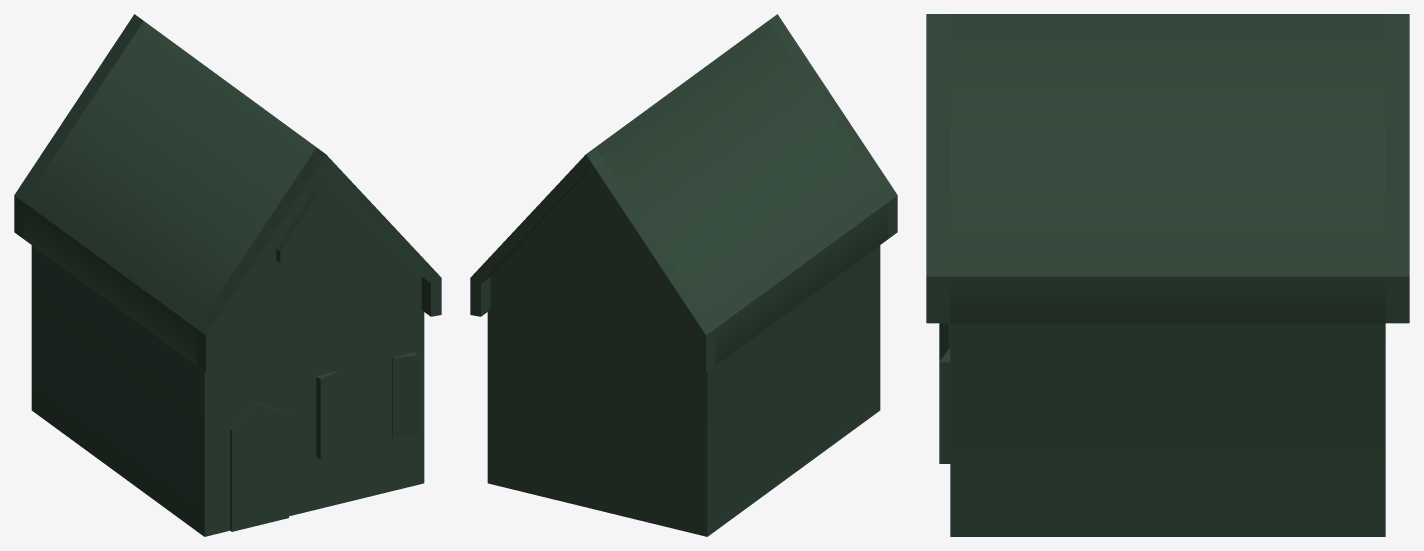
File: Building1.obj
The picture shows the model from 3 angles, left to right: view 1: azimuth 30°, elevation 25°; view 2: azimuth 150°, elevation 25°; view 3: azimuth 270°, elevation 25°; orthographic projection. The views are drawn at different scales.
Parts seen in each view (by area): view 1: pCube9; view 2: pCube9; view 3: pCube9.
Boxes of the visible parts, x1,y1,x2,y2 form: pCube9: (14,14,441,536); pCube9: (470,14,897,536); pCube9: (926,14,1409,536).
Bounding box in the file's own units: 5.35 × 7.85 × 7.52.
